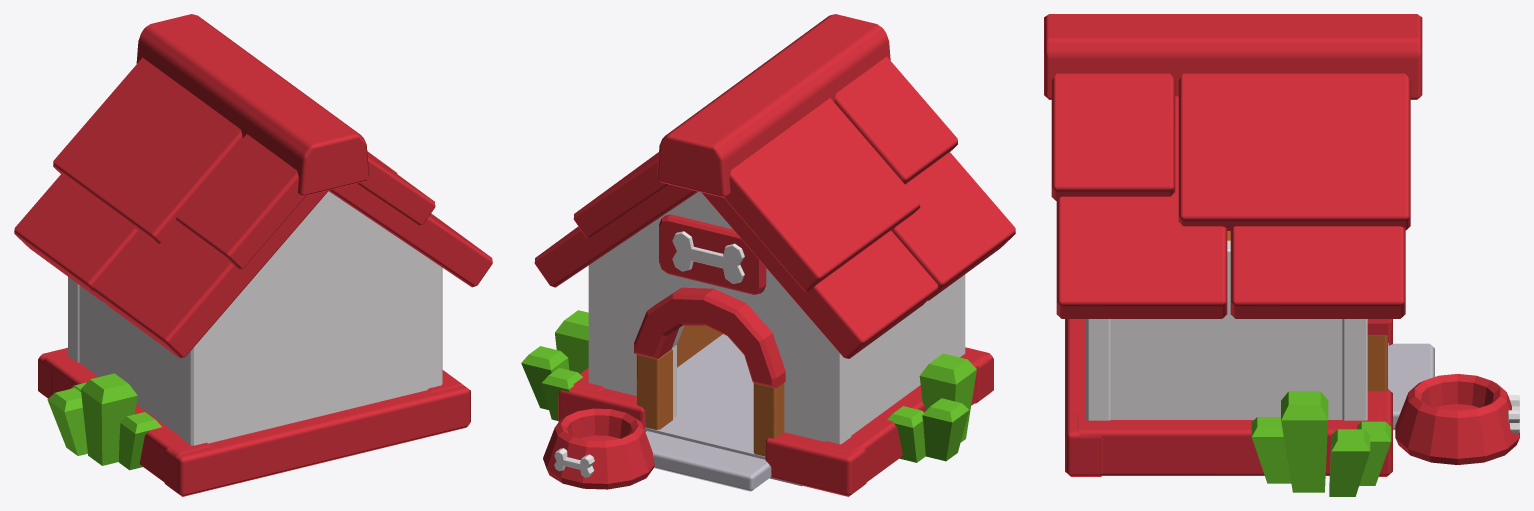
The model's file is Doghouse.glb.
The picture shows the model from 3 angles, left to right: view 1: azimuth 30°, elevation 25°; view 2: azimuth 150°, elevation 25°; view 3: azimuth 270°, elevation 25°; orthographic projection. The views are drawn at different scales.
Visible parts, largest first — view 1: M_Doghouse_ToyRed, M_Doghouse_PlaneBody, M_Doghouse_CanopyTop; view 2: M_Doghouse_ToyRed, M_Doghouse_PlaneBody, M_Doghouse_PlaneFlap, M_Doghouse_CanopyTop, M_Doghouse_ToyLeg; view 3: M_Doghouse_ToyRed, M_Doghouse_PlaneBody, M_Doghouse_CanopyTop, M_Doghouse_PlaneFlap, M_Doghouse_ToyLeg.
Part boxes in pixels (x1,y1,x2,y2): M_Doghouse_ToyRed: (14,14,492,496); M_Doghouse_PlaneBody: (68,191,442,445); M_Doghouse_CanopyTop: (47,373,161,470); M_Doghouse_ToyRed: (534,14,1015,496); M_Doghouse_PlaneBody: (554,191,965,477); M_Doghouse_PlaneFlap: (644,334,802,491); M_Doghouse_CanopyTop: (521,310,976,462); M_Doghouse_ToyLeg: (636,325,784,456); M_Doghouse_ToyRed: (1044,14,1519,476); M_Doghouse_PlaneBody: (1086,240,1519,432); M_Doghouse_CanopyTop: (1251,391,1391,496); M_Doghouse_PlaneFlap: (1388,343,1434,430); M_Doghouse_ToyLeg: (1227,231,1387,391).
Bounding box in the file's own units: 5.92 × 4.9 × 5.66.
